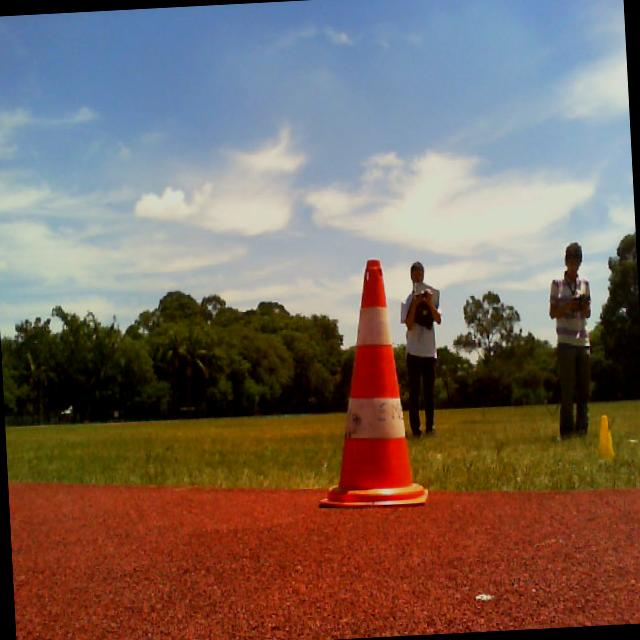cone: (305, 258, 430, 510), (594, 413, 614, 462)
